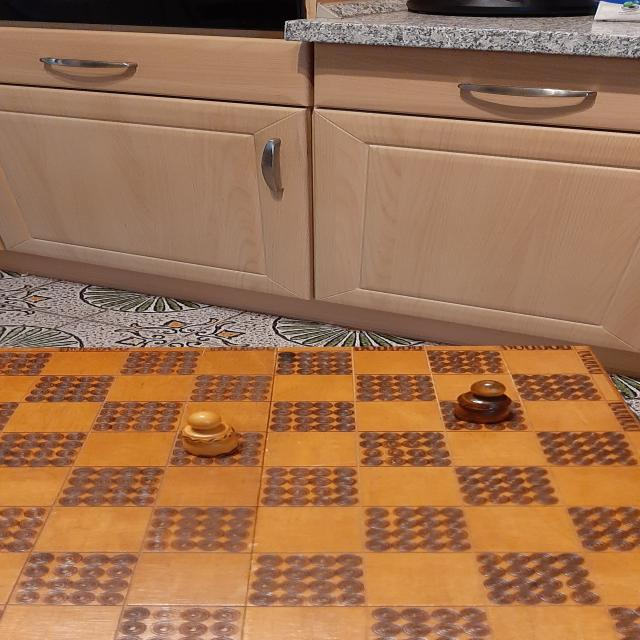black-pawn: (453, 380, 512, 424)
white-pawn: (180, 411, 240, 458)
